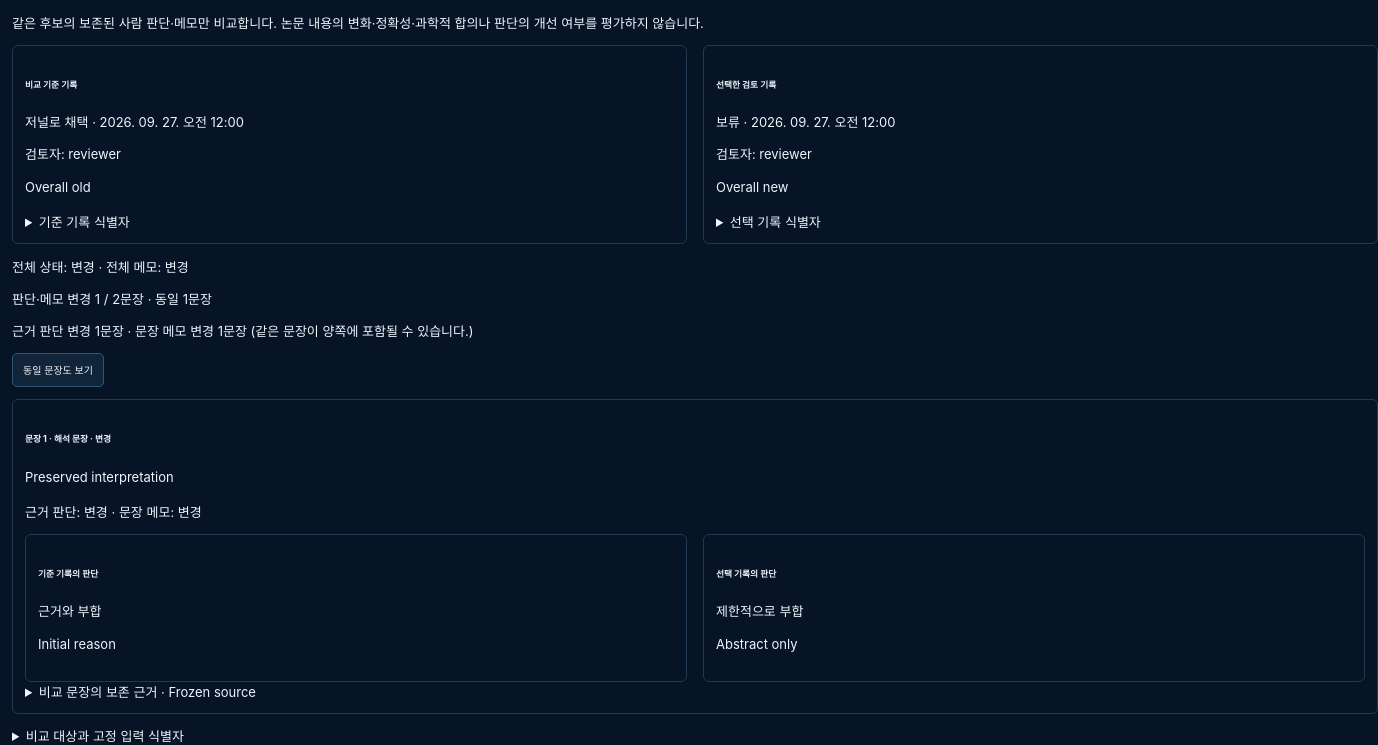
it: shows exact changed judgments and preserved quotations without claiming scientific improvement
(page scrolled)
Check: the text "판단·메모 변경 1 / 2문장 · 동일 1문장" is shown, box top-left (12, 291), bottom-right (212, 307)
Check: the text "전체 상태: 변경 · 전체 메모: 변경" is shown, box top-left (12, 259), bottom-right (189, 275)
Click the heading "비교 문장의 보존 근거 · Frozen source" at point(147, 692), box top-left (39, 684), bottom-right (256, 700)
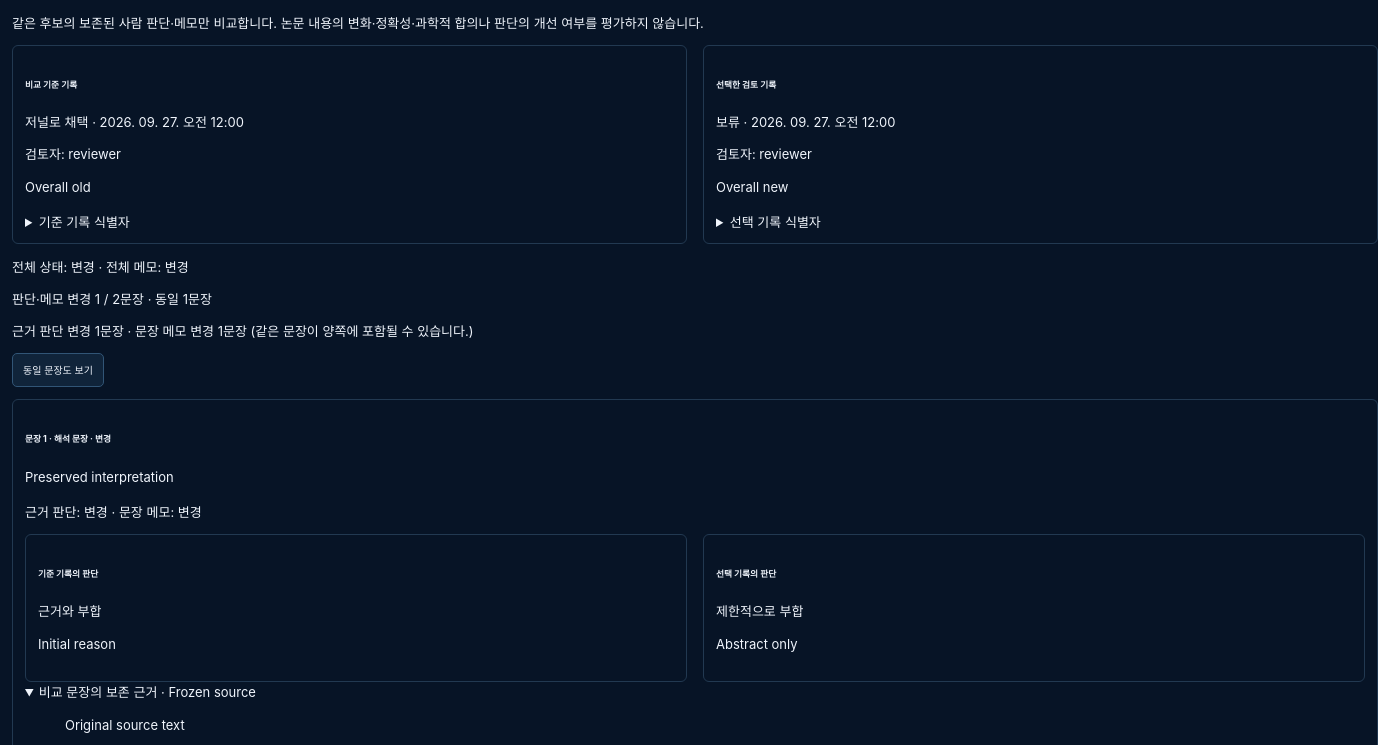
Check: the text "Original source text" is shown, box top-left (65, 717), bottom-right (185, 733)
Click the button "동일 문장도 보기" at point(58, 370), box top-left (12, 353), bottom-right (104, 387)
(page scrolled)
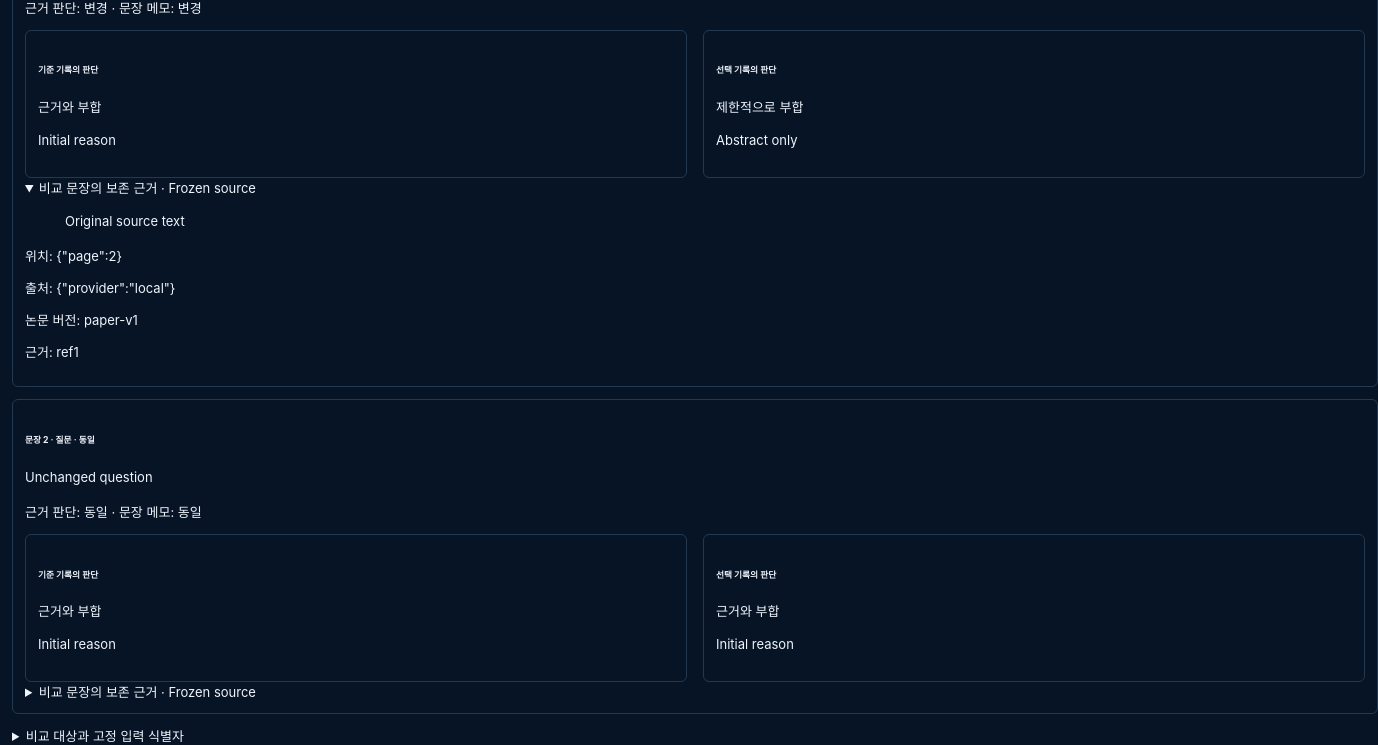
Check: the text "Unchanged question" is shown, box top-left (25, 469), bottom-right (153, 485)
